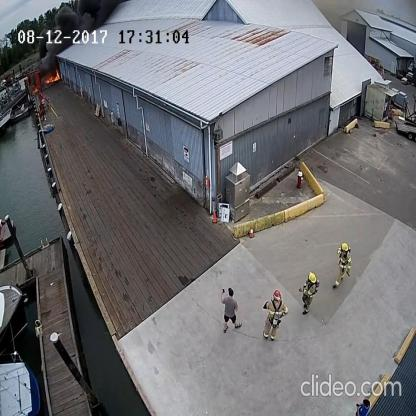fire: (44, 68, 61, 84), (34, 86, 38, 93)
